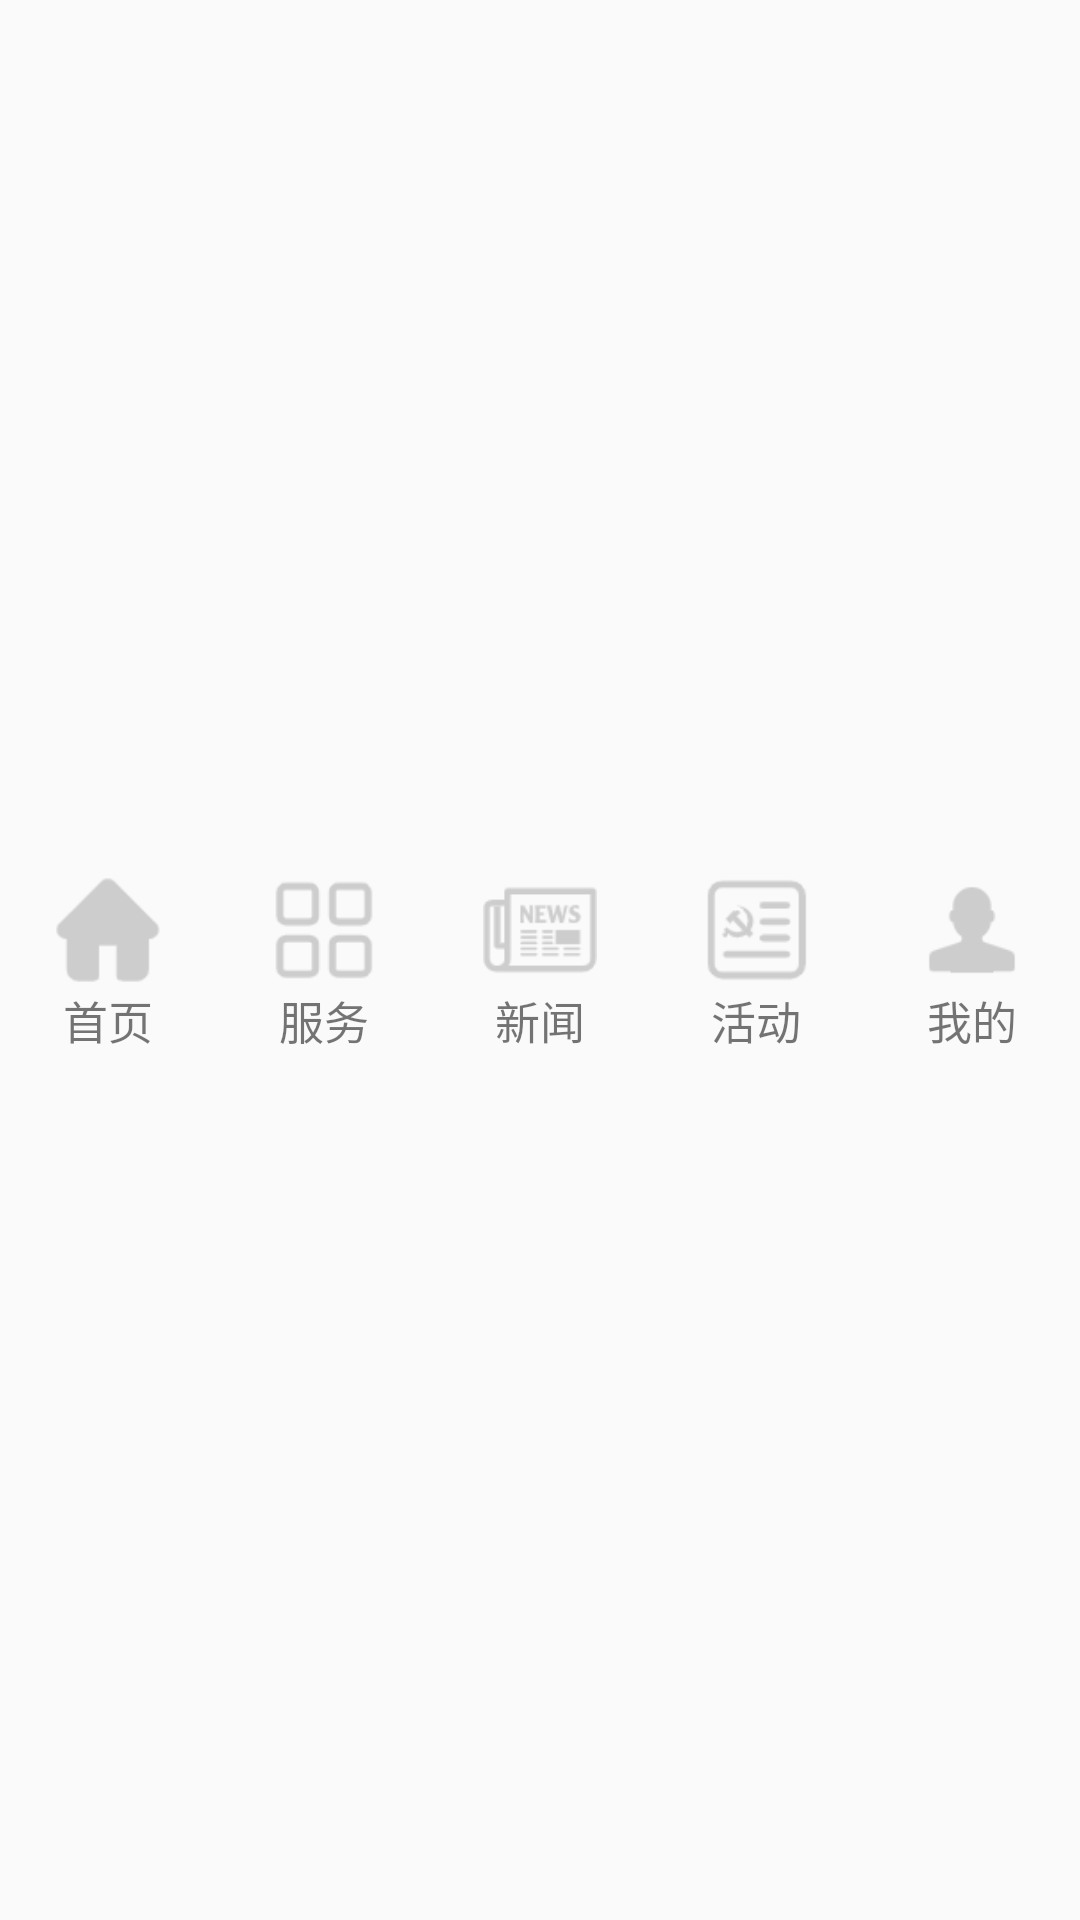

Screen size 1080w x 1920h. Icon name, then its box in pixels as [x1=x1, y1=y1, x2=x2, y2=y2]:
person: [x1=929, y1=887, x2=1015, y2=973]
